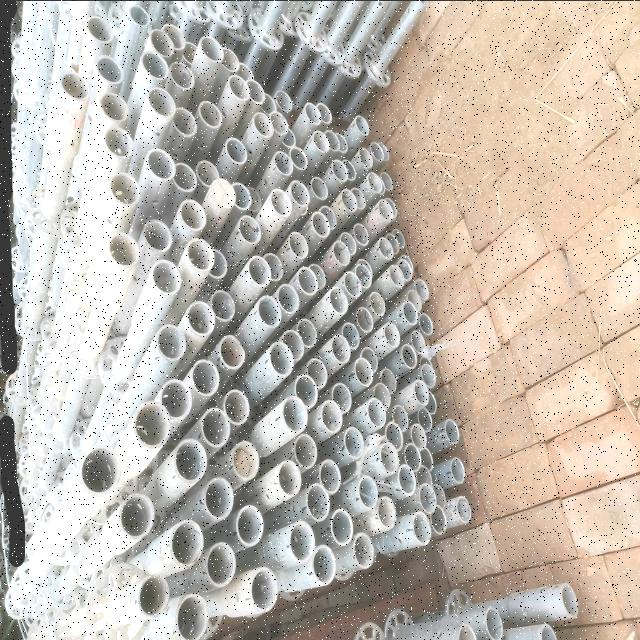pipe: (118, 491, 158, 544), (78, 444, 118, 494), (133, 398, 171, 449), (171, 517, 201, 569), (175, 437, 208, 483), (207, 538, 237, 588), (176, 593, 208, 639), (249, 565, 279, 614), (204, 474, 234, 522), (160, 377, 190, 422), (140, 572, 170, 616), (186, 298, 216, 340), (232, 438, 260, 482), (151, 256, 183, 294), (237, 503, 264, 548), (190, 358, 220, 398), (200, 407, 230, 446), (159, 322, 187, 362), (108, 230, 138, 266), (142, 218, 172, 254), (187, 236, 215, 274), (223, 386, 251, 424), (295, 432, 319, 476), (212, 285, 238, 325), (314, 542, 336, 588), (332, 505, 356, 547), (110, 170, 140, 203), (182, 196, 208, 234), (219, 331, 245, 369), (283, 394, 309, 432), (482, 602, 508, 640), (96, 52, 126, 84), (99, 90, 129, 122), (102, 127, 134, 157), (278, 460, 302, 500), (306, 481, 330, 521), (343, 423, 367, 462), (146, 87, 176, 118), (292, 520, 314, 562), (171, 157, 195, 195), (560, 581, 584, 619), (146, 148, 178, 176), (270, 342, 294, 379), (355, 528, 375, 572), (259, 294, 283, 330), (59, 70, 89, 98), (140, 52, 170, 80), (319, 456, 341, 494), (378, 492, 400, 530), (172, 106, 198, 138), (206, 244, 228, 280), (210, 176, 234, 209), (264, 250, 286, 286), (294, 374, 316, 410), (358, 474, 380, 510), (196, 99, 223, 128), (170, 60, 196, 90), (320, 398, 342, 433), (199, 34, 223, 66), (238, 213, 262, 245), (226, 134, 248, 168), (194, 157, 220, 185), (283, 328, 305, 361), (280, 282, 300, 318), (85, 15, 111, 42), (232, 179, 252, 213), (250, 253, 270, 287), (366, 396, 386, 430), (149, 30, 175, 56), (229, 74, 251, 104), (333, 381, 353, 414), (270, 188, 292, 218), (296, 318, 318, 348), (414, 510, 432, 546), (162, 23, 186, 49), (382, 440, 399, 474), (354, 357, 373, 387), (404, 441, 421, 474), (221, 46, 241, 74), (288, 230, 308, 258), (329, 286, 348, 315), (399, 462, 416, 494), (431, 503, 447, 537), (181, 34, 199, 64), (274, 149, 292, 179), (450, 454, 468, 484), (443, 416, 461, 446), (421, 481, 436, 516), (298, 266, 316, 295), (304, 98, 322, 127), (361, 345, 378, 375), (129, 4, 151, 27), (332, 335, 350, 363), (290, 178, 308, 206), (332, 238, 350, 266), (341, 321, 359, 349), (356, 306, 374, 334), (414, 462, 432, 490), (456, 493, 472, 524), (254, 111, 272, 138), (319, 203, 337, 230), (382, 322, 400, 349), (385, 421, 403, 448), (247, 182, 263, 212), (413, 378, 429, 408), (308, 262, 325, 290), (290, 144, 308, 170), (311, 211, 329, 237), (310, 172, 328, 198), (344, 270, 362, 296), (354, 262, 372, 288), (374, 382, 392, 408), (455, 621, 481, 639), (370, 290, 386, 319), (536, 621, 560, 640), (392, 403, 408, 431), (235, 60, 257, 80), (270, 112, 288, 136), (316, 100, 334, 124), (339, 231, 356, 256), (411, 422, 426, 450), (419, 444, 433, 474), (432, 482, 446, 512), (380, 367, 396, 393), (410, 330, 426, 356), (421, 363, 437, 389), (417, 404, 433, 430), (313, 129, 330, 153), (331, 158, 348, 182), (388, 264, 405, 288), (247, 80, 265, 102), (275, 88, 293, 110), (340, 190, 358, 212), (401, 342, 416, 368), (423, 390, 438, 416), (280, 124, 296, 148), (350, 186, 366, 210), (402, 300, 418, 324), (414, 276, 430, 300), (418, 310, 434, 334), (324, 128, 340, 151), (407, 288, 423, 311), (355, 112, 370, 136), (354, 221, 369, 245), (378, 198, 393, 222), (259, 90, 275, 112), (391, 226, 407, 248), (341, 158, 355, 182), (398, 259, 412, 282), (378, 237, 394, 257), (371, 139, 384, 163), (368, 171, 382, 193), (386, 232, 400, 254), (387, 196, 399, 220), (418, 354, 434, 372), (378, 140, 391, 162), (358, 147, 372, 167), (380, 171, 394, 191), (336, 130, 348, 152), (356, 257, 376, 267), (400, 252, 414, 266), (378, 174, 384, 196)
